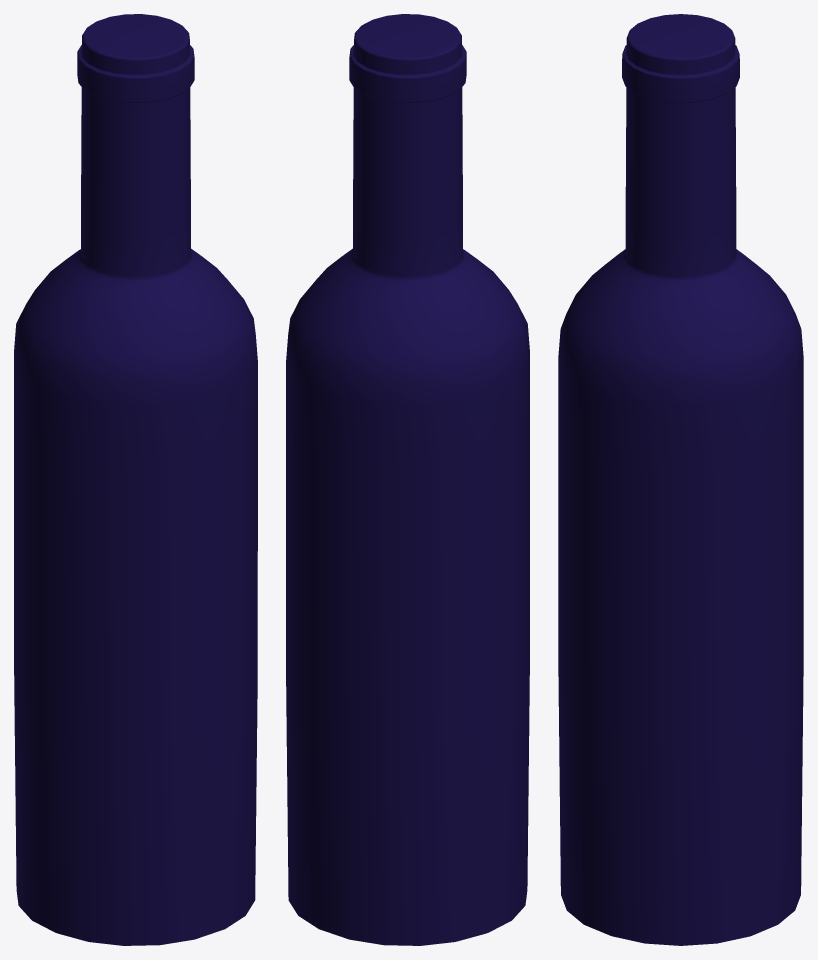
3 renders of one model, left to right at view 1: azimuth 30°, elevation 25°; view 2: azimuth 150°, elevation 25°; view 3: azimuth 270°, elevation 25°, orthographic.
Parts seen in each view (by area): view 1: WineBottles1_LP; view 2: WineBottles1_LP; view 3: WineBottles1_LP.
Part boxes in pixels (x1,y1,x2,y2): WineBottles1_LP: [14, 14, 257, 945]; WineBottles1_LP: [286, 14, 529, 945]; WineBottles1_LP: [558, 14, 803, 945].
Bounding box in the file's own units: 9.1 × 35.28 × 9.1.
